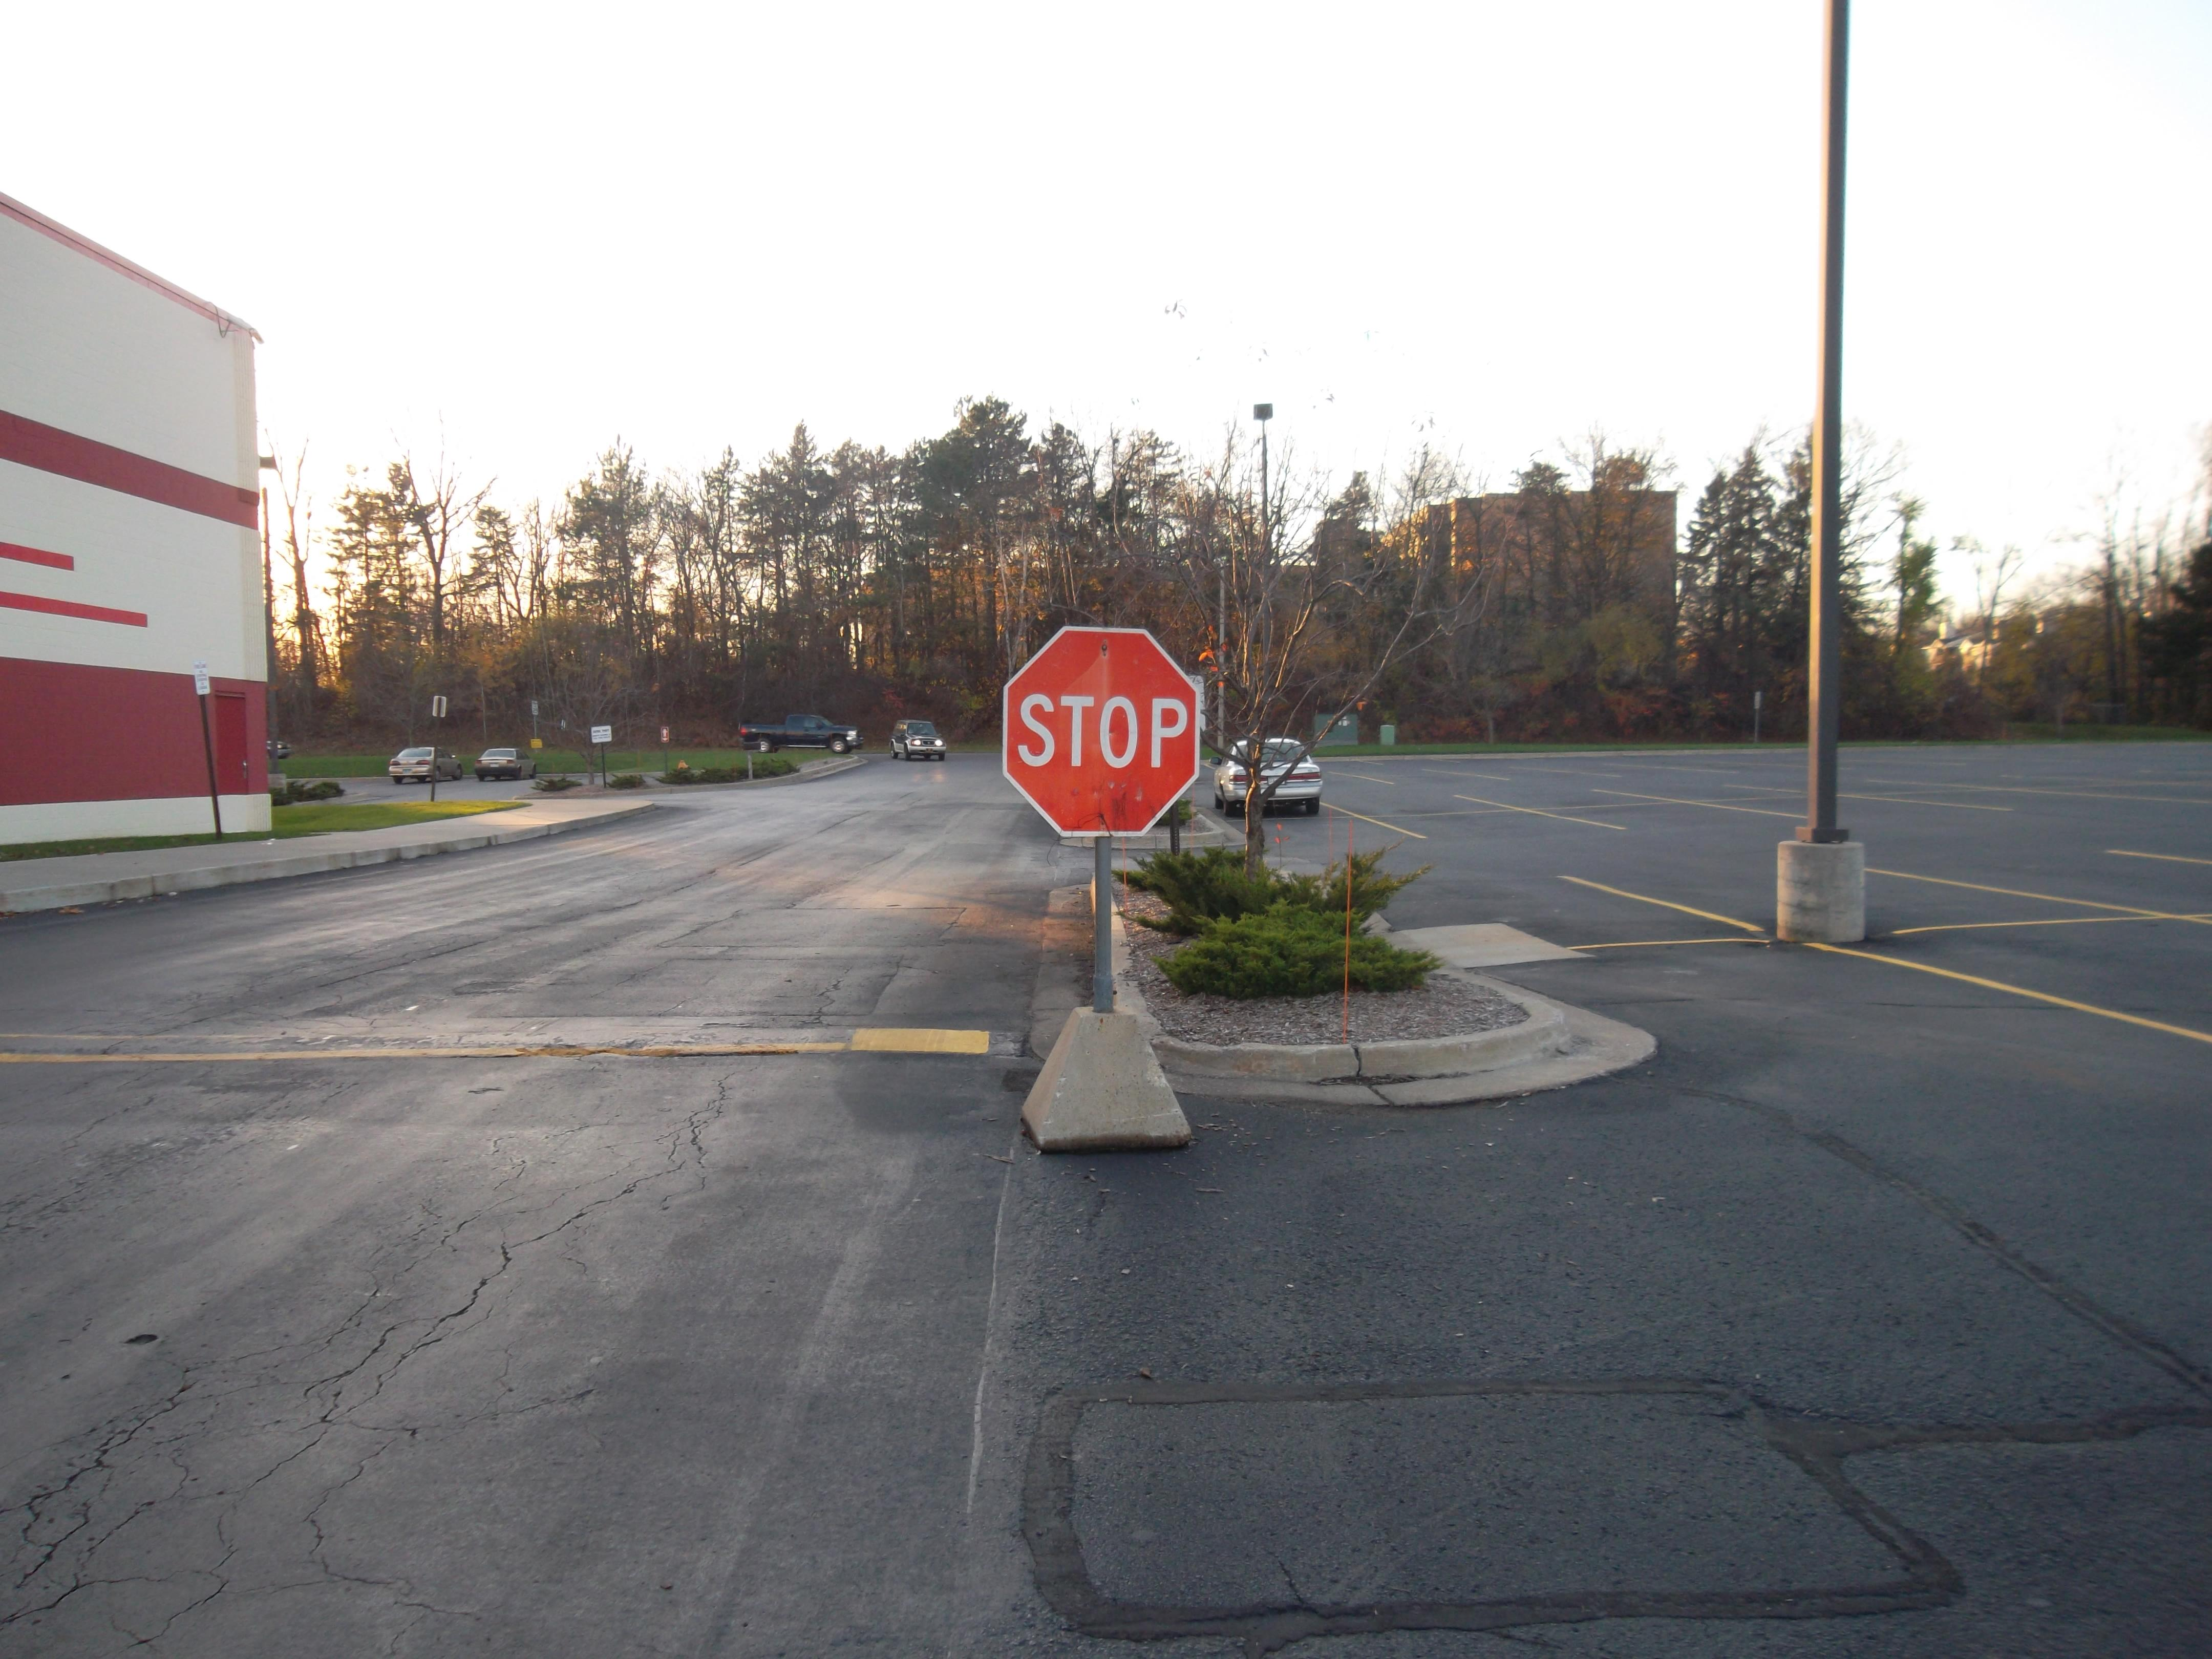stop: (996, 620, 1209, 845)
